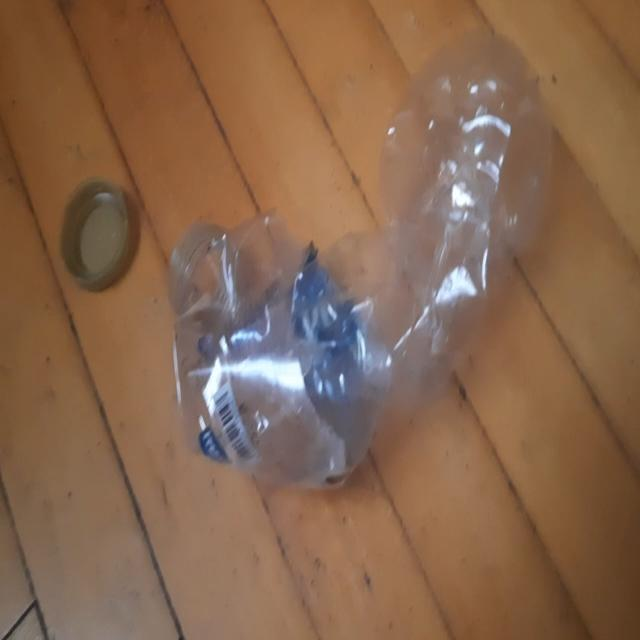Plastic: (169, 27, 553, 488)
